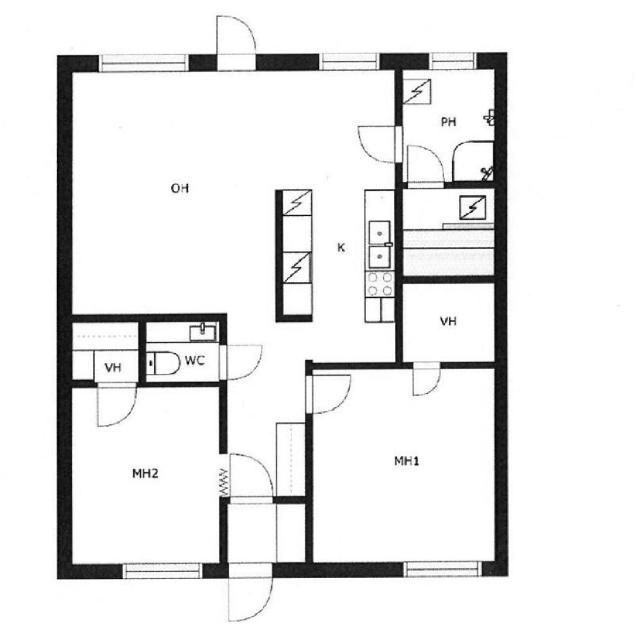door: (222, 561, 280, 626), (210, 12, 264, 76), (223, 448, 278, 508), (349, 118, 407, 167), (303, 367, 355, 418), (401, 140, 451, 189), (93, 379, 139, 429), (216, 338, 266, 382), (408, 360, 445, 400)
window: (90, 47, 197, 83), (115, 555, 210, 588), (395, 553, 489, 586), (311, 43, 388, 80), (421, 45, 483, 76)
zone: (70, 68, 278, 327), (309, 354, 501, 572), (278, 64, 398, 370), (66, 378, 226, 566), (401, 63, 503, 185), (398, 62, 498, 183), (398, 183, 501, 281), (397, 278, 502, 366), (142, 320, 223, 384), (64, 320, 143, 384)
